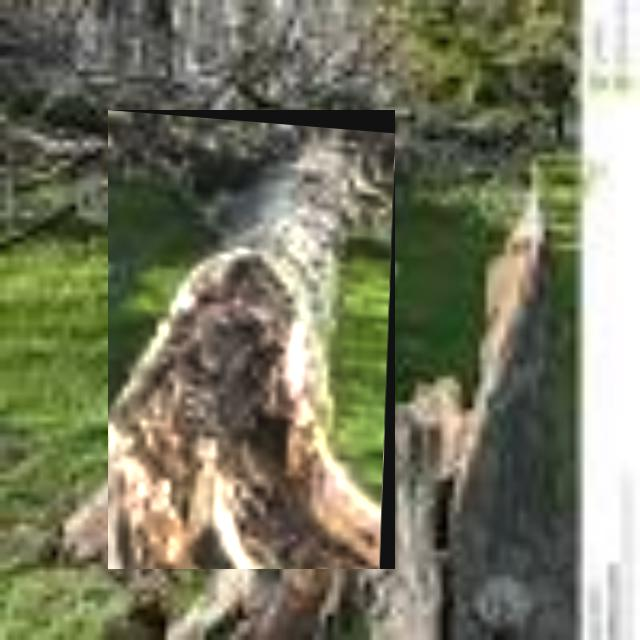Fallen Tree: (108, 110, 396, 570)
